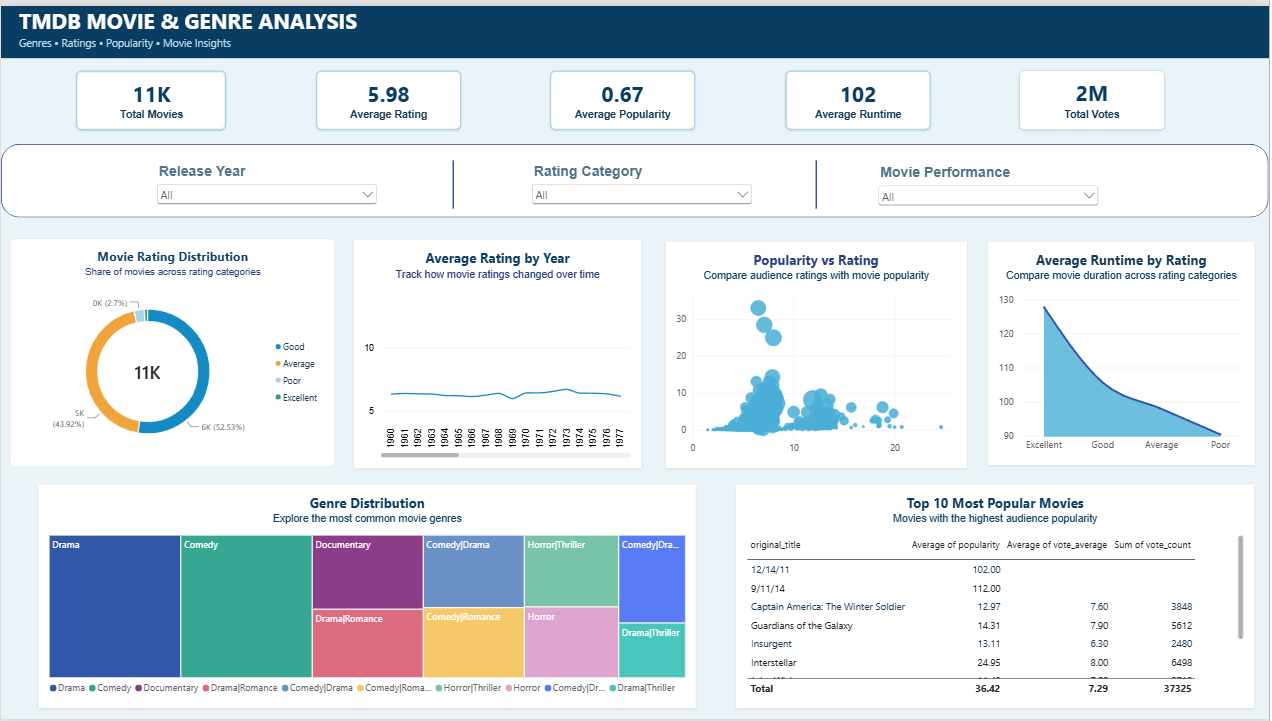

This screenshot's page, from the dashboard's own definition file:
{"tool":"powerbi","page":{"name":"Movie & Genre Analysis","canvas":[1920,1080],"ordinal":2},"visuals":[{"type":"shape","box":[0,0,1920,79],"z":0},{"type":"textbox","title":"TMDB MOVIE & GENRE ANALYSIS","box":[27.2,0,1440,79],"z":1000},{"type":"cardVisual","fields":{"Data":["tmdb-movies.Total Votes"]},"box":[1543,97.6,220,90],"z":2000},{"type":"cardVisual","fields":{"Data":["tmdb-movies.Average Rating"]},"box":[476.8,97.6,220,90],"z":3000},{"type":"cardVisual","fields":{"Data":["tmdb-movies.Average Popularity"]},"box":[832.2,97.6,220,90],"z":4000},{"type":"cardVisual","fields":{"Data":["tmdb-movies.Average Runtime"]},"box":[1187.6,97.6,220,90],"z":5000},{"type":"cardVisual","fields":{"Data":["tmdb-movies.Total Movies"]},"box":[114.3,97.6,227.1,90.9],"z":6000},{"type":"shape","box":[0,209.7,1919.3,111.3],"z":7000},{"type":"slicer","fields":{"Values":["tmdb-movies.release_year"]},"box":[224,231.3,355,77.2],"z":8000},{"type":"slicer","fields":{"Values":["tmdb-movies.Rating Category"]},"box":[792.1,231.3,355,77.2],"z":9000},{"type":"slicer","fields":{"Values":["tmdb-movies.Movie Performance"]},"box":[1318.2,233.8,355,77],"z":10000},{"type":"shape","box":[636.5,233.8,97.7,72.7],"z":11000},{"type":"shape","box":[1184.8,233.8,97.7,72.7],"z":12000},{"type":"donutChart","title":"Movie Rating Distribution","fields":{"Category":["tmdb-movies.Rating Category"],"Y":["tmdb-movies.Total Movies"]},"box":[12.5,351.1,491.5,346.1],"z":13000},{"type":"lineChart","title":"Average Rating by Year","fields":{"Category":["tmdb-movies.Release Year Label"],"Y":["tmdb-movies.Average Rating"]},"box":[534.1,353.6,436.3,346.1],"z":14000},{"type":"scatterChart","title":"Popularity vs Rating","fields":{"X":["Sum(tmdb-movies.vote_average)"],"Y":["Sum(tmdb-movies.popularity)"],"Category":["tmdb-movies.original_title"],"Size":["Sum(tmdb-movies.vote_count)"]},"box":[1005.6,356.1,456.4,343.5],"z":15000},{"type":"tableEx","title":"Top 10 Most Popular Movies","fields":{"Values":["tmdb-movies.original_title","Avg(tmdb-movies.popularity)","Avg(tmdb-movies.vote_average)","Sum(tmdb-movies.vote_count)"]},"box":[1113.4,724.7,784.9,338.5],"z":16000},{"type":"areaChart","title":"Average Runtime by Rating","fields":{"Category":["tmdb-movies.Rating Category"],"Y":["tmdb-movies.Average Runtime"]},"box":[1494.6,356.1,403.7,338.5],"z":17000},{"type":"treemap","title":"Genre Distribution","fields":{"Group":["tmdb-movies.genres"],"Values":["CountNonNull(tmdb-movies.id)"]},"box":[57.7,724.7,995.5,338.5],"z":18000}]}

Visuals, with their boxes in screenshot pixels (x1, y1, x2, y2), scaled from the page's 1920x1080 canvas onto the 1272x721 screenshot:
shape: <box>0,0,1271,53</box>
"TMDB MOVIE & GENRE ANALYSIS" textbox: <box>18,0,972,53</box>
cardVisual - tmdb-movies.Total Votes: <box>1022,65,1168,125</box>
cardVisual - tmdb-movies.Average Rating: <box>316,65,462,125</box>
cardVisual - tmdb-movies.Average Popularity: <box>551,65,697,125</box>
cardVisual - tmdb-movies.Average Runtime: <box>787,65,933,125</box>
cardVisual - tmdb-movies.Total Movies: <box>76,65,226,126</box>
shape: <box>0,140,1271,214</box>
slicer - tmdb-movies.release_year: <box>148,154,384,206</box>
slicer - tmdb-movies.Rating Category: <box>525,154,760,206</box>
slicer - tmdb-movies.Movie Performance: <box>873,156,1108,207</box>
shape: <box>422,156,486,205</box>
shape: <box>785,156,850,205</box>
"Movie Rating Distribution" donutChart: <box>8,234,334,465</box>
"Average Rating by Year" lineChart: <box>354,236,643,467</box>
"Popularity vs Rating" scatterChart: <box>666,238,969,467</box>
"Top 10 Most Popular Movies" tableEx: <box>738,484,1258,710</box>
"Average Runtime by Rating" areaChart: <box>990,238,1258,464</box>
"Genre Distribution" treemap: <box>38,484,698,710</box>
